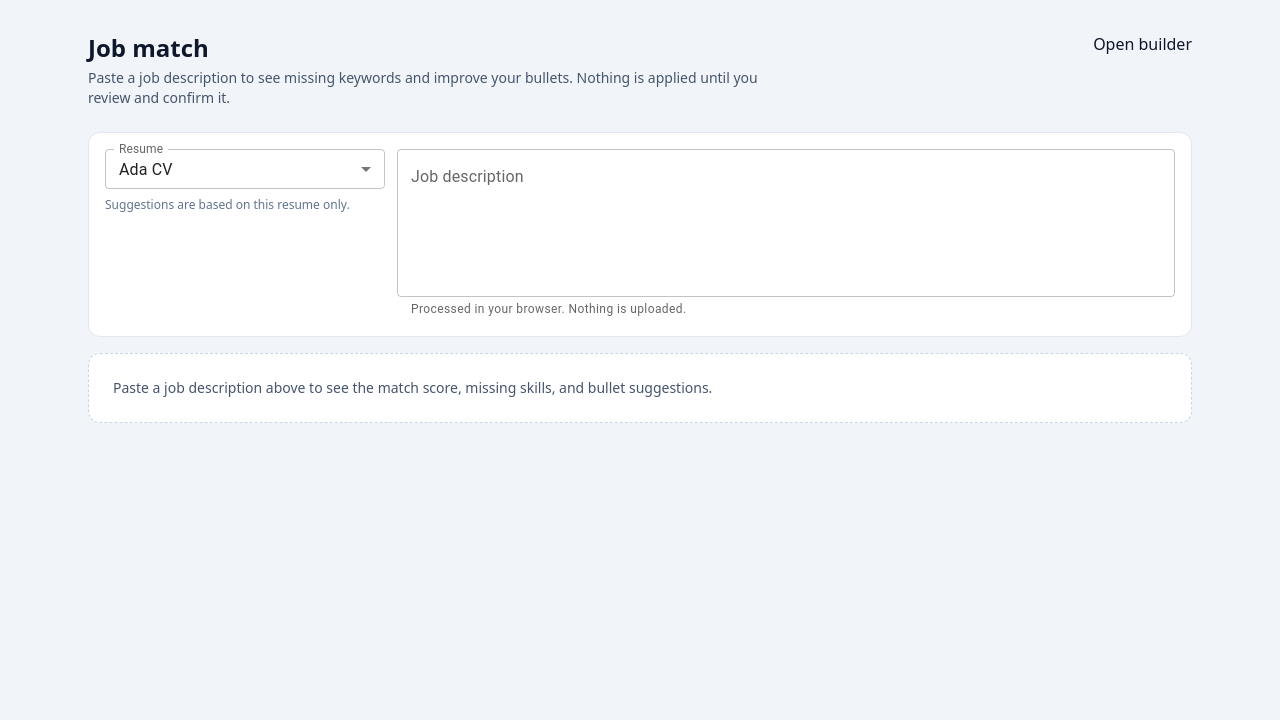
Test case: job match page › reacts to a pasted job description
Type "Frontend Developer. Requirements: React, TypeScript, Next.js, Docker and PostgreSQL experience." into the text box labelled "Job description".
click(786, 223); type("Frontend Developer. Requirements: React, TypeScript, Next.js, Docker and PostgreSQL experience.")  # box [411,166,1161,280]
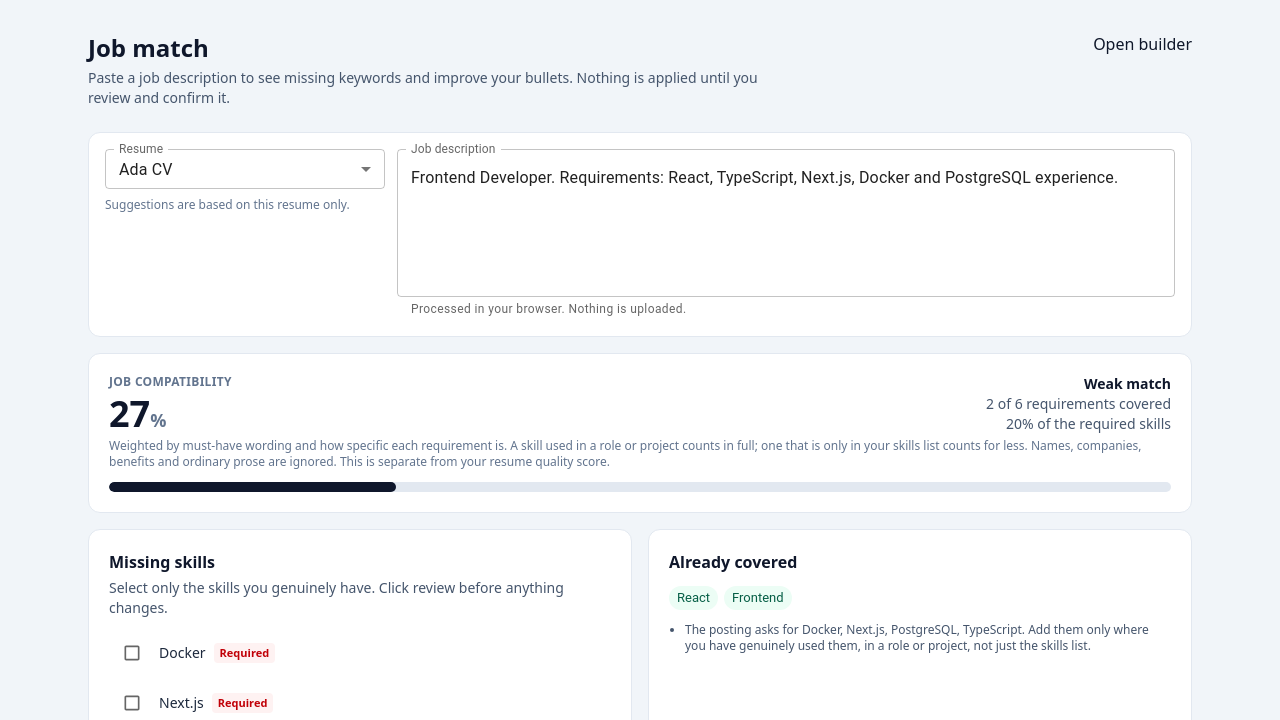
Check: the heading "Missing skills" is shown, box [109,551,215,573]
Check: the text "Job compatibility" is shown, box [109,374,232,390]
Check: the 1st text "Required" is shown, box [214,643,275,663]
